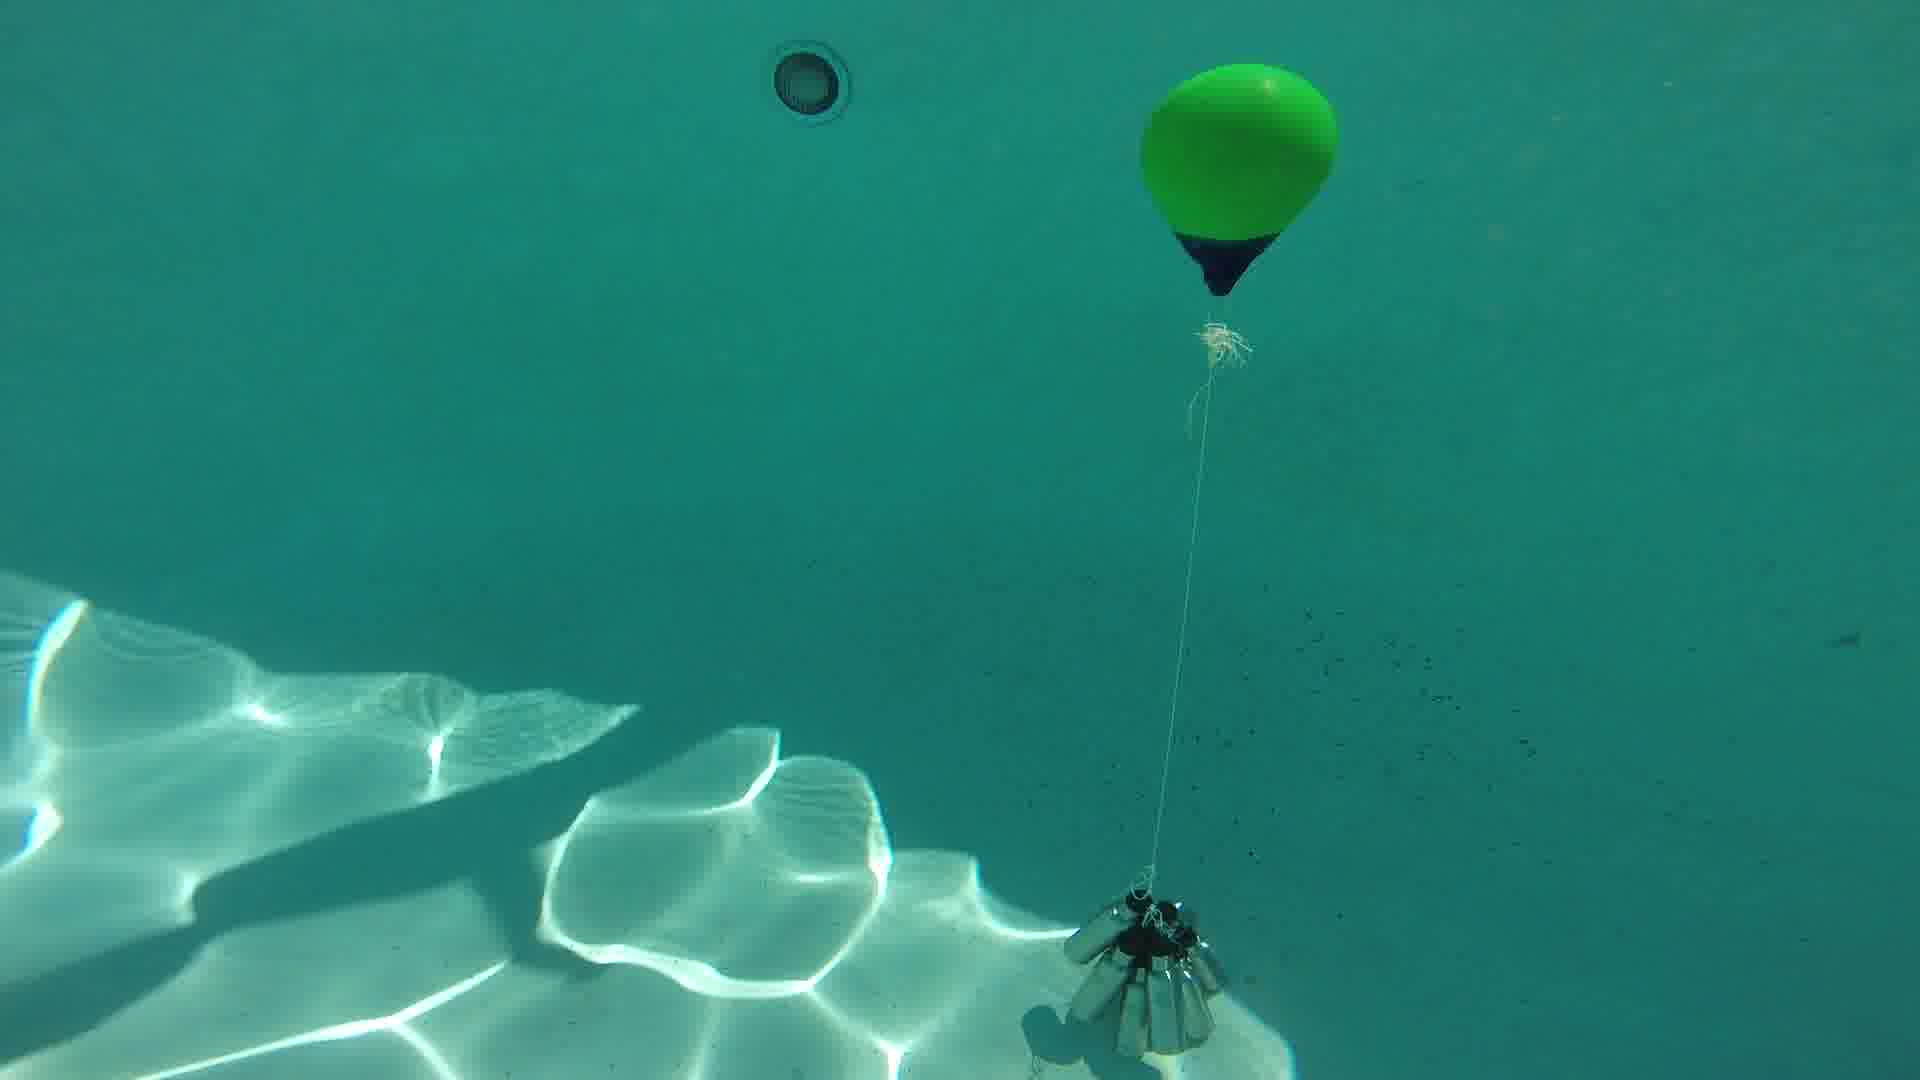yellow_buoy: (1141, 62, 1341, 298)
